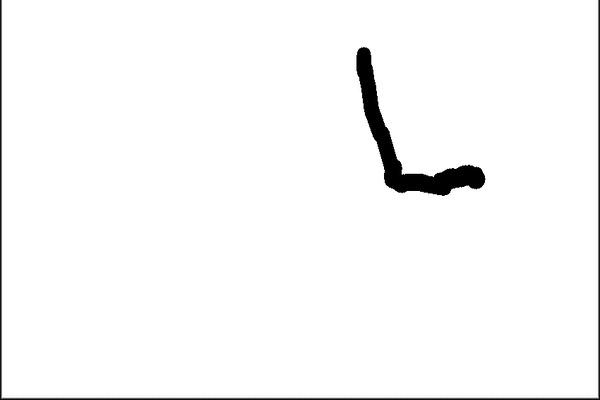L: (347, 38, 493, 199)
